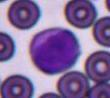M: (29, 28, 80, 74)
